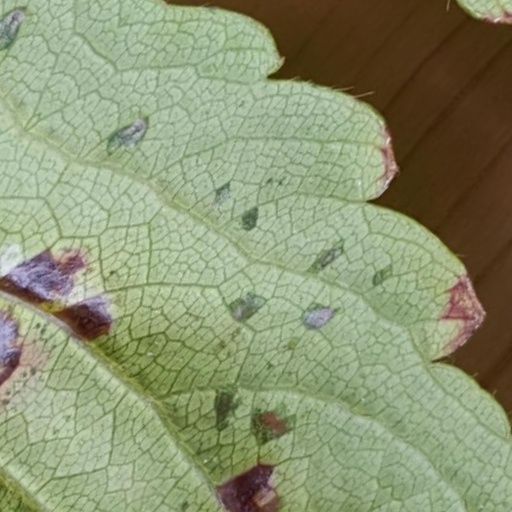Angular Leafspot: (25, 70, 511, 511)
